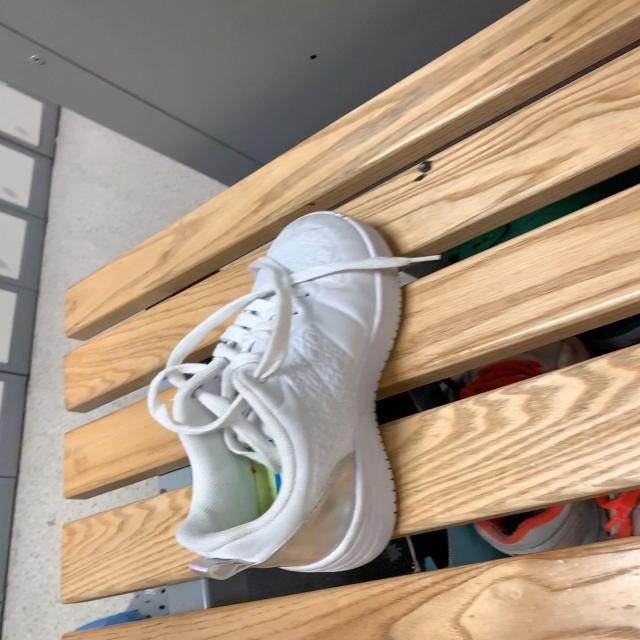shoe: (144, 212, 458, 588)
